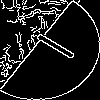I: (24, 25, 78, 62)
